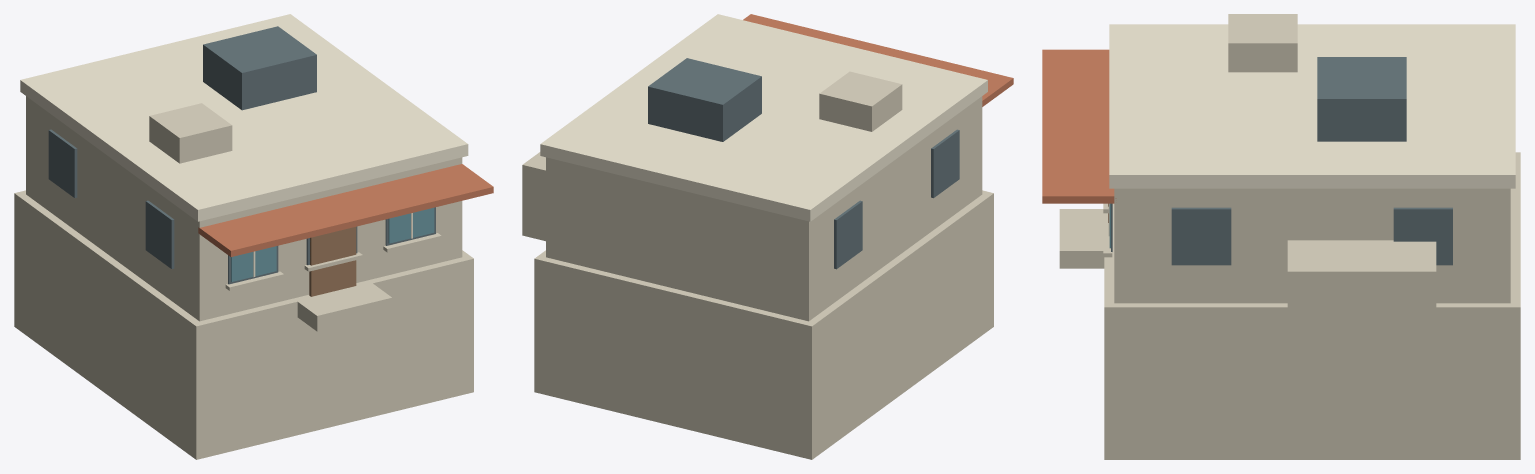
File: stone-3.glb
3 renders of one model, left to right at view 1: azimuth 30°, elevation 25°; view 2: azimuth 150°, elevation 25°; view 3: azimuth 270°, elevation 25°, orthographic. The views are drawn at different scales.
Bounding box in the file's own units: 8.7 × 7.25 × 9.65.
